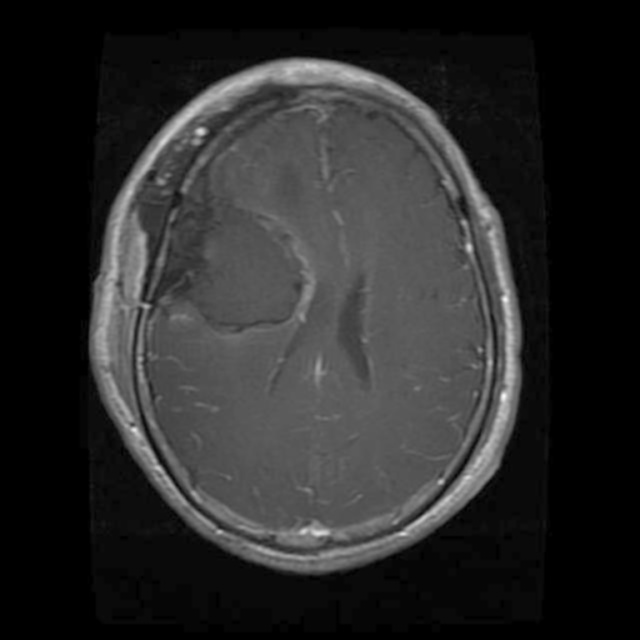pituitary tumor: (135, 218, 303, 336)
